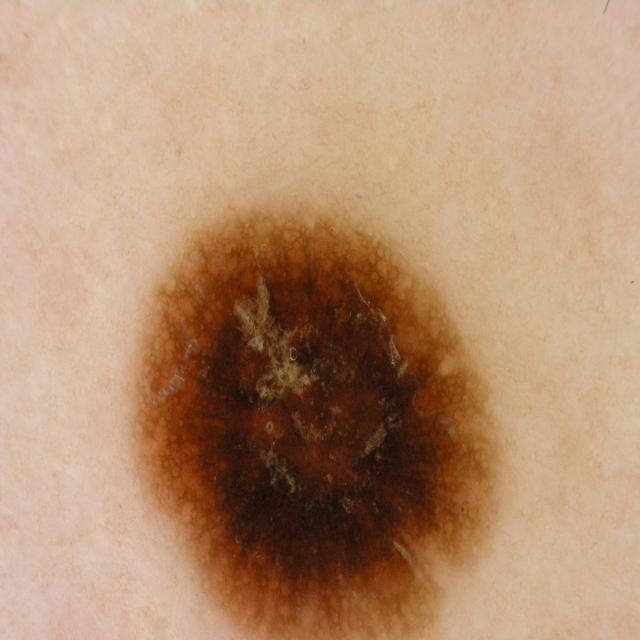Melanoma: (127, 200, 579, 640)
